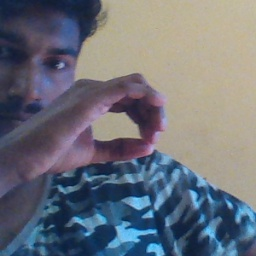O: (21, 62, 170, 170)
